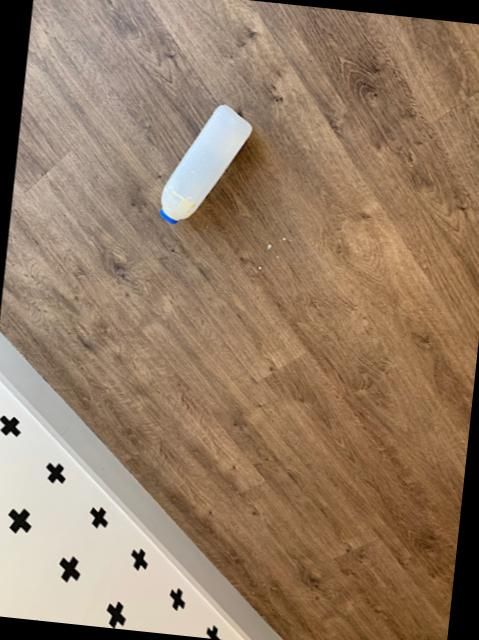plastic: (161, 106, 252, 221)
